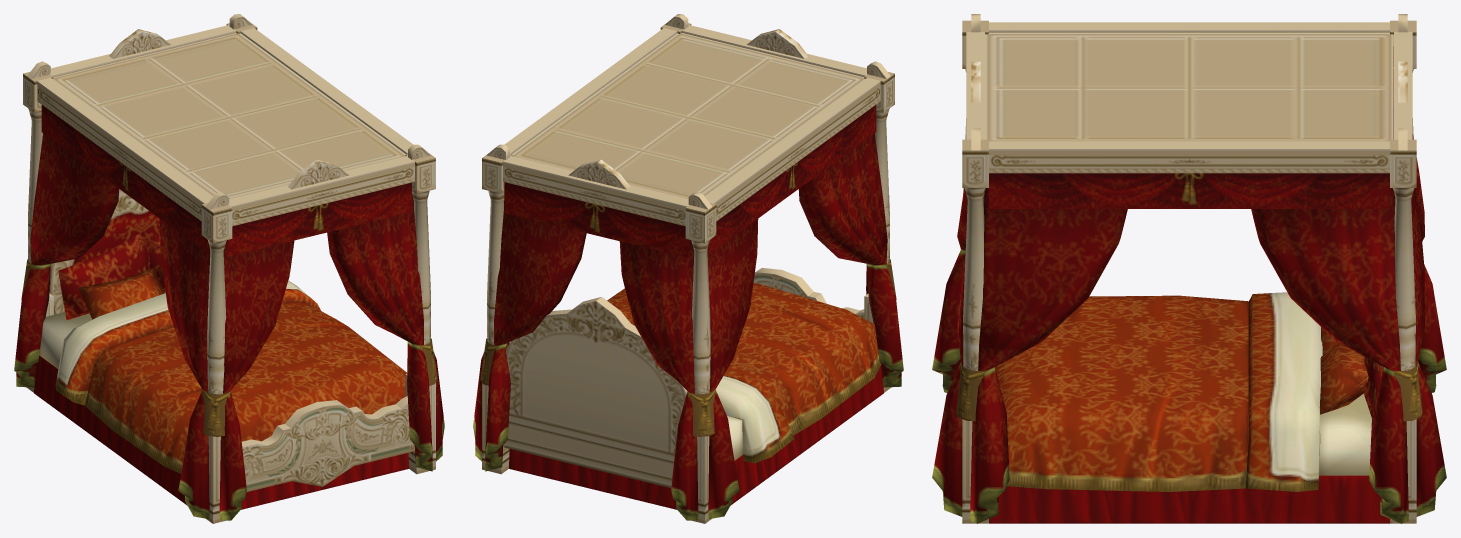
The model's file is bed.glb.
The picture shows the model from 3 angles, left to right: view 1: azimuth 30°, elevation 25°; view 2: azimuth 150°, elevation 25°; view 3: azimuth 270°, elevation 25°; orthographic projection. The views are drawn at different scales.
Parts seen in each view (by area): view 1: Object_3, Object_8, Object_5, Object_7, Object_6, Object_4; view 2: Object_3, Object_8, Object_5, Object_7, Object_6; view 3: Object_3, Object_5, Object_8, Object_7, Object_6, Object_4.
Part boxes in pixels (x1=…): Object_3: x1=23, y1=14, x2=435, y2=523; Object_8: x1=14, y1=133, x2=444, y2=520; Object_5: x1=39, y1=268, x2=407, y2=473; Object_7: x1=21, y1=105, x2=437, y2=436; Object_6: x1=34, y1=355, x2=408, y2=509; Object_4: x1=58, y1=231, x2=165, y2=319; Object_3: x1=482, y1=14, x2=894, y2=523; Object_8: x1=473, y1=133, x2=903, y2=520; Object_5: x1=607, y1=283, x2=881, y2=463; Object_7: x1=480, y1=105, x2=896, y2=436; Object_6: x1=509, y1=366, x2=883, y2=509; Object_3: x1=962, y1=14, x2=1416, y2=523; Object_5: x1=995, y1=292, x2=1371, y2=491; Object_8: x1=932, y1=46, x2=1446, y2=523; Object_7: x1=956, y1=173, x2=1422, y2=421; Object_6: x1=989, y1=475, x2=1389, y2=523; Object_4: x1=1363, y1=356, x2=1383, y2=417.
Size of what is drawn, in the model's own units: 34.72 by 41.28 by 48.52.
6 materials, 6 textured.
